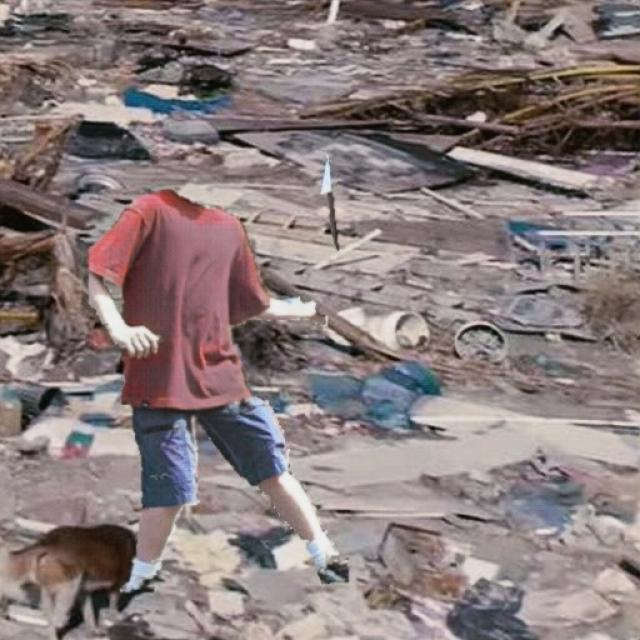Person in Rubble: (89, 155, 348, 591)
